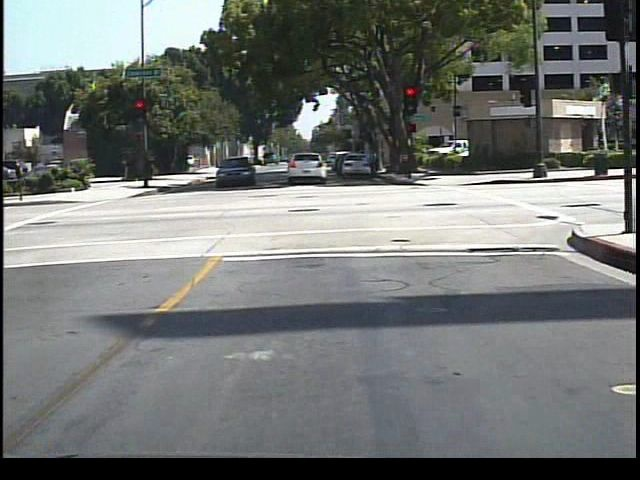person: (363, 144, 386, 185)
